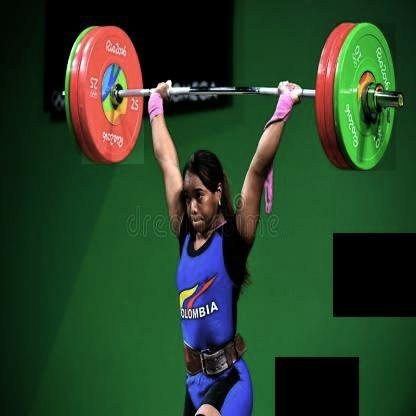barbell: (336, 24, 397, 171), (83, 24, 145, 164)
